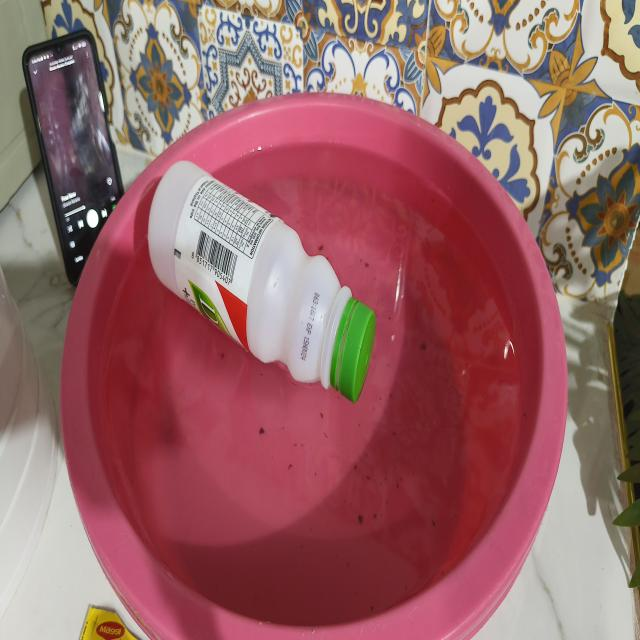Plastic Bottle: (148, 161, 374, 401)
